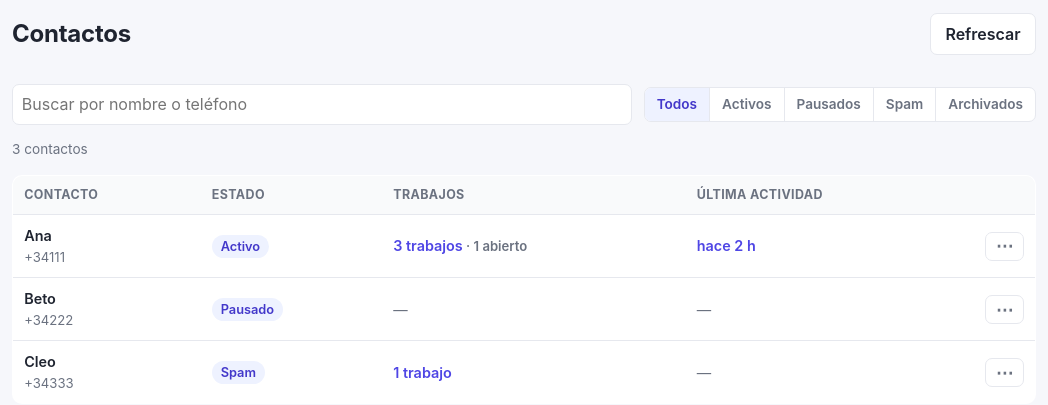
Test case: los filtros de estado acotan la lista
Expected: the text "Ana" is shown, [24, 227, 52, 244]
Click the button "Pausados". click: (829, 104)
box: [784, 88, 874, 121]
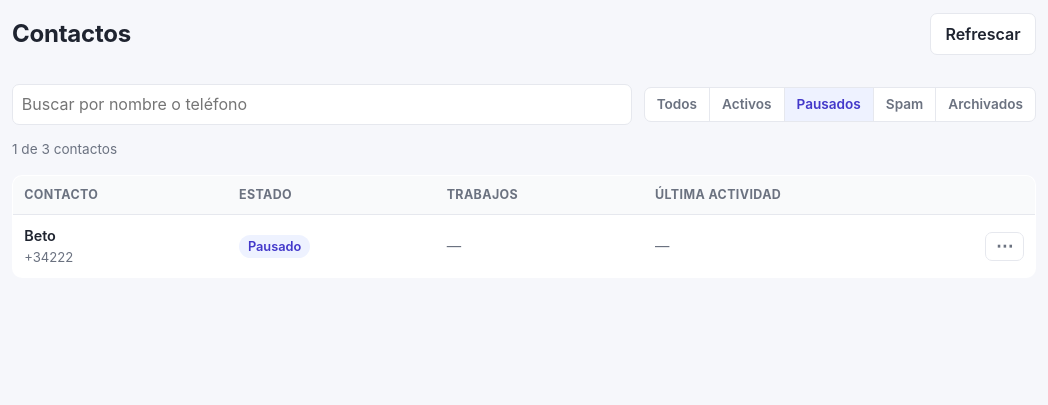
Expected: the text "Beto" is shown, [24, 227, 56, 244]
Now the text "Ana" is gone
Now the text "Cleo" is gone
Click the button "Spam". click: (905, 104)
box: [874, 88, 936, 121]
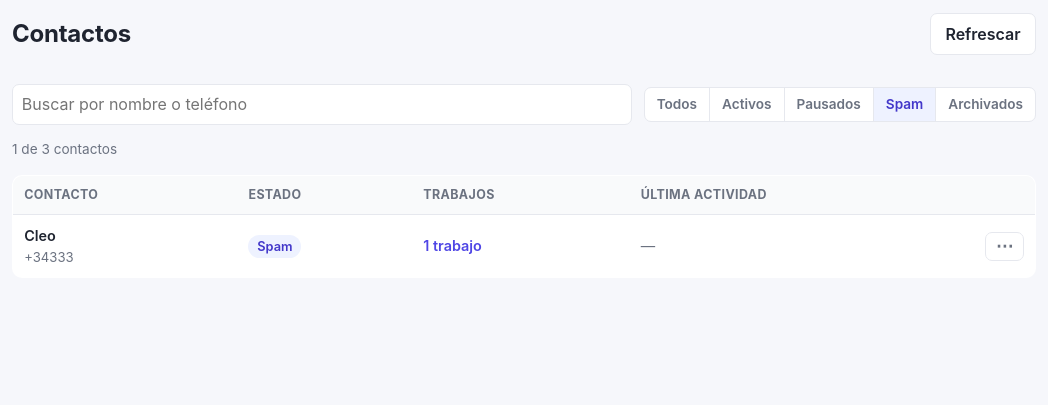
Now the text "Cleo" is shown, box [24, 227, 56, 244]
Now the text "Beto" is gone
